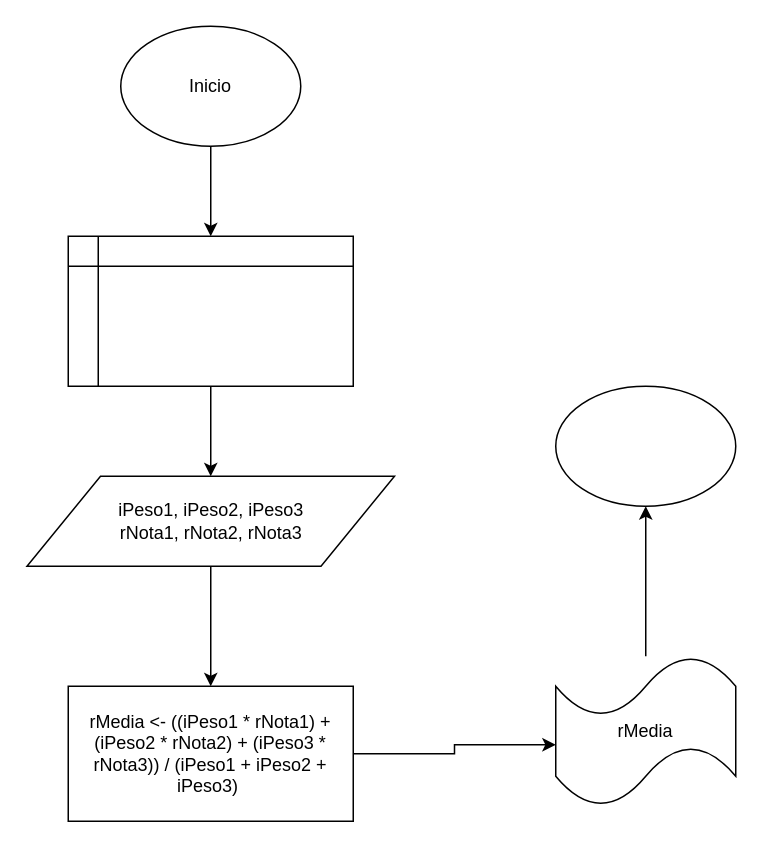
This 762x848 diagram has some shape labels left out. The centre of each missing label's shape, as x and y in pixels:
"FIM" goes at [645,445].
"iPeso1, iPeso2, iPeso3 rNota1, rNota2, rNota3 rMedia" goes at [210,310].
